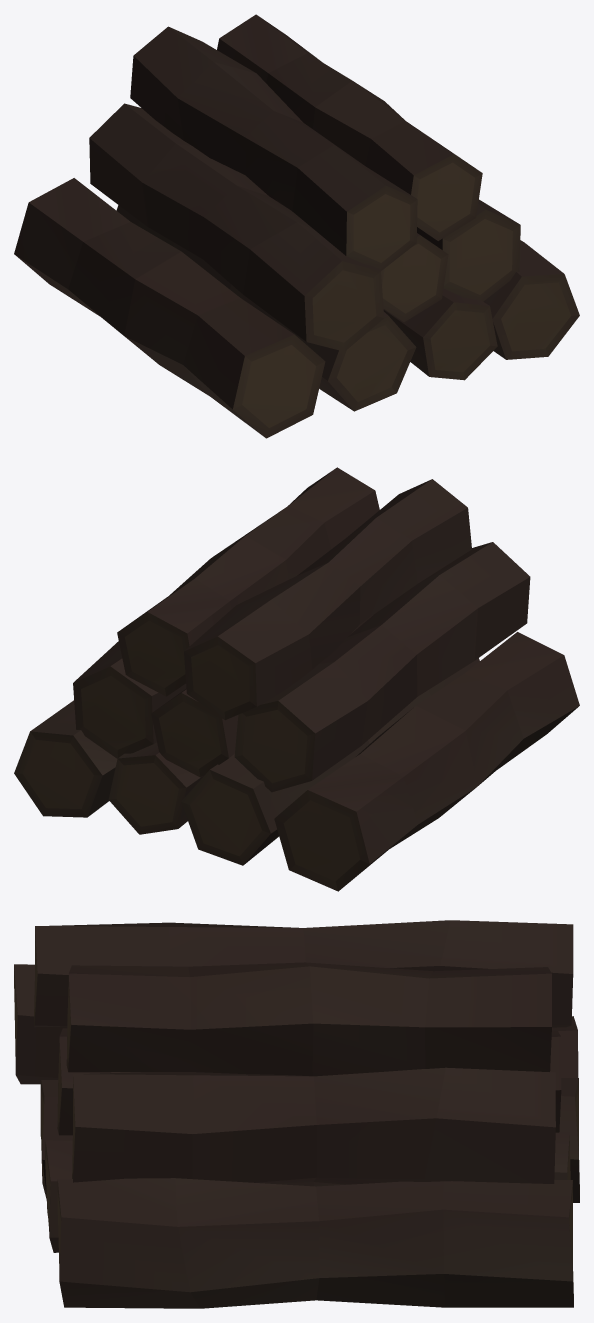
The model's file is mesh_log_pile_01.glb.
3 views of the same model, one above another, from view 1: azimuth 30°, elevation 25°; view 2: azimuth 150°, elevation 25°; view 3: azimuth 270°, elevation 25° (orthographic). The views are drawn at different scales.
Visible parts, largest first — view 1: mesh_log_pile_01; view 2: mesh_log_pile_01; view 3: mesh_log_pile_01.
Part boxes in pixels (<box>): mesh_log_pile_01: <box>14,14,579,438</box>; mesh_log_pile_01: <box>14,467,579,891</box>; mesh_log_pile_01: <box>14,920,579,1308</box>.
Bounding box in the file's own units: 1.44 × 0.9045 × 1.58.
